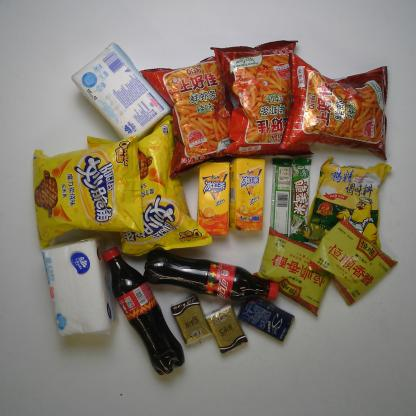Chocolate: (289, 156, 312, 244), (270, 157, 293, 239)
Drink: (102, 246, 185, 376), (143, 248, 280, 302), (228, 157, 266, 232), (196, 160, 230, 236)
Gum: (236, 294, 294, 342)
Puffed Food: (86, 112, 213, 258), (32, 132, 145, 250), (138, 55, 241, 177), (209, 40, 315, 158), (280, 50, 388, 162)
Seasoner: (303, 156, 392, 250), (306, 217, 398, 307), (252, 225, 332, 317)
Tissue: (70, 42, 172, 145), (41, 236, 118, 337), (204, 302, 249, 355), (170, 292, 212, 346)
